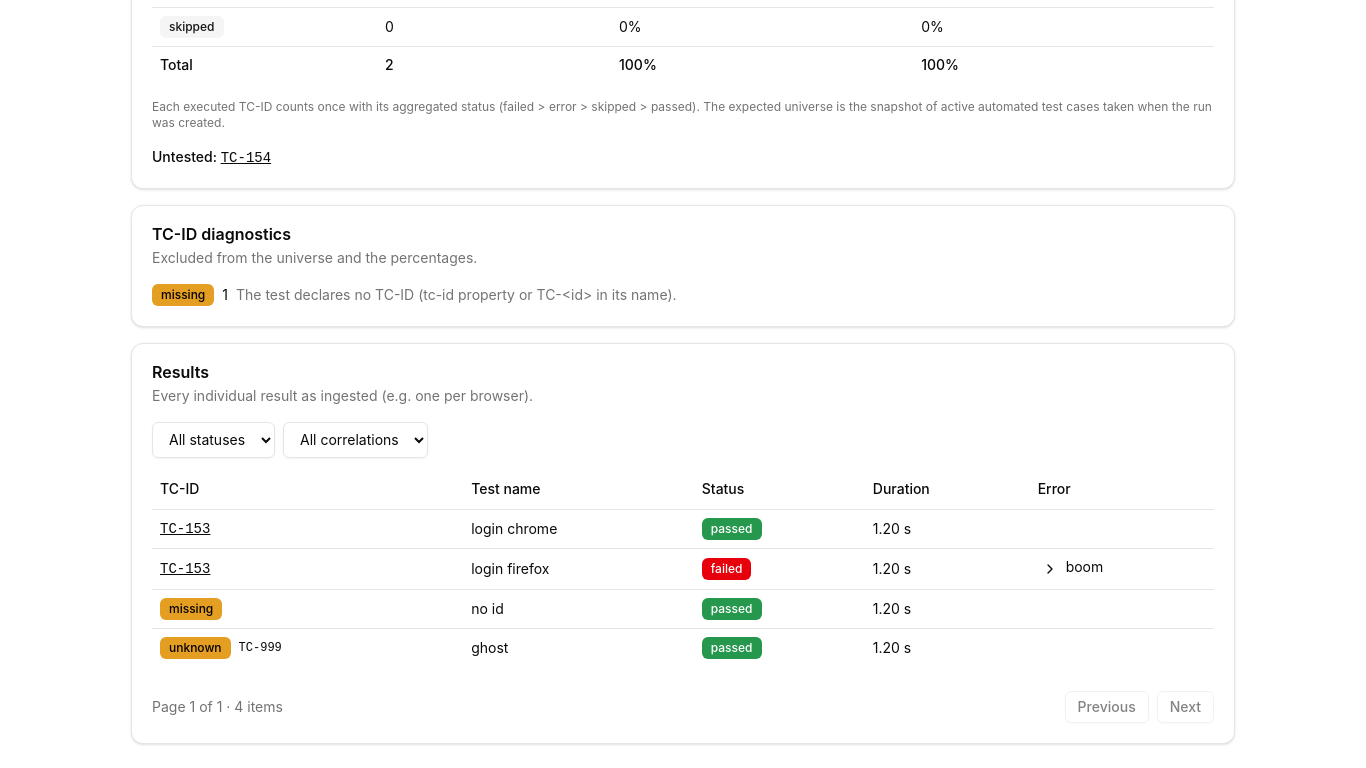
Test: FE-INT-011 run results › FE-INT-011 filters by status and correlation
(page scrolled)
Select "failed" in the dropdown named "Filter by status": (214, 440) [152, 422, 275, 458]
(page scrolled)
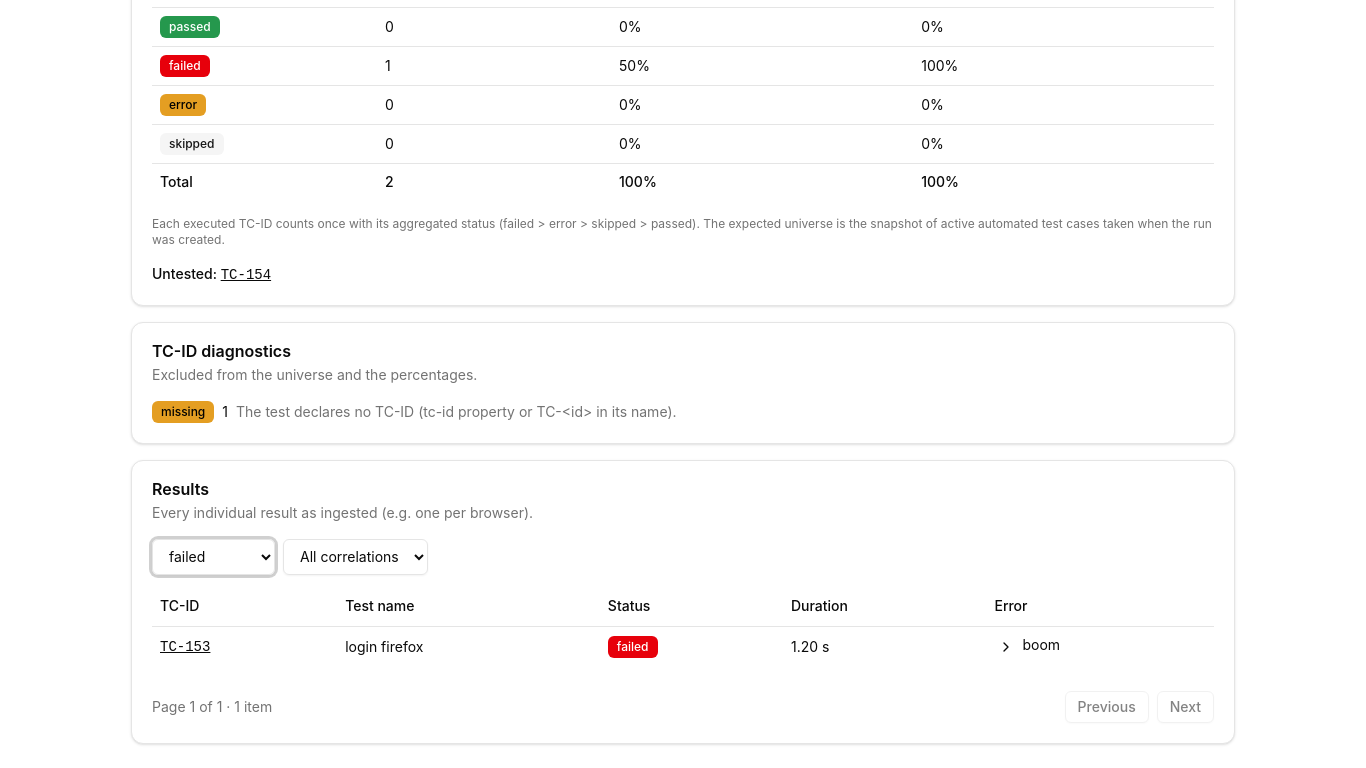
Expected: the text "login firefox" is shown, [337, 626, 600, 667]
Expected: the number of rows with test id "result-row" is 1, [152, 626, 1214, 667]
Select "All statuses" in the dropdown named "Filter by status": (214, 556) [152, 538, 275, 574]
(page scrolled)
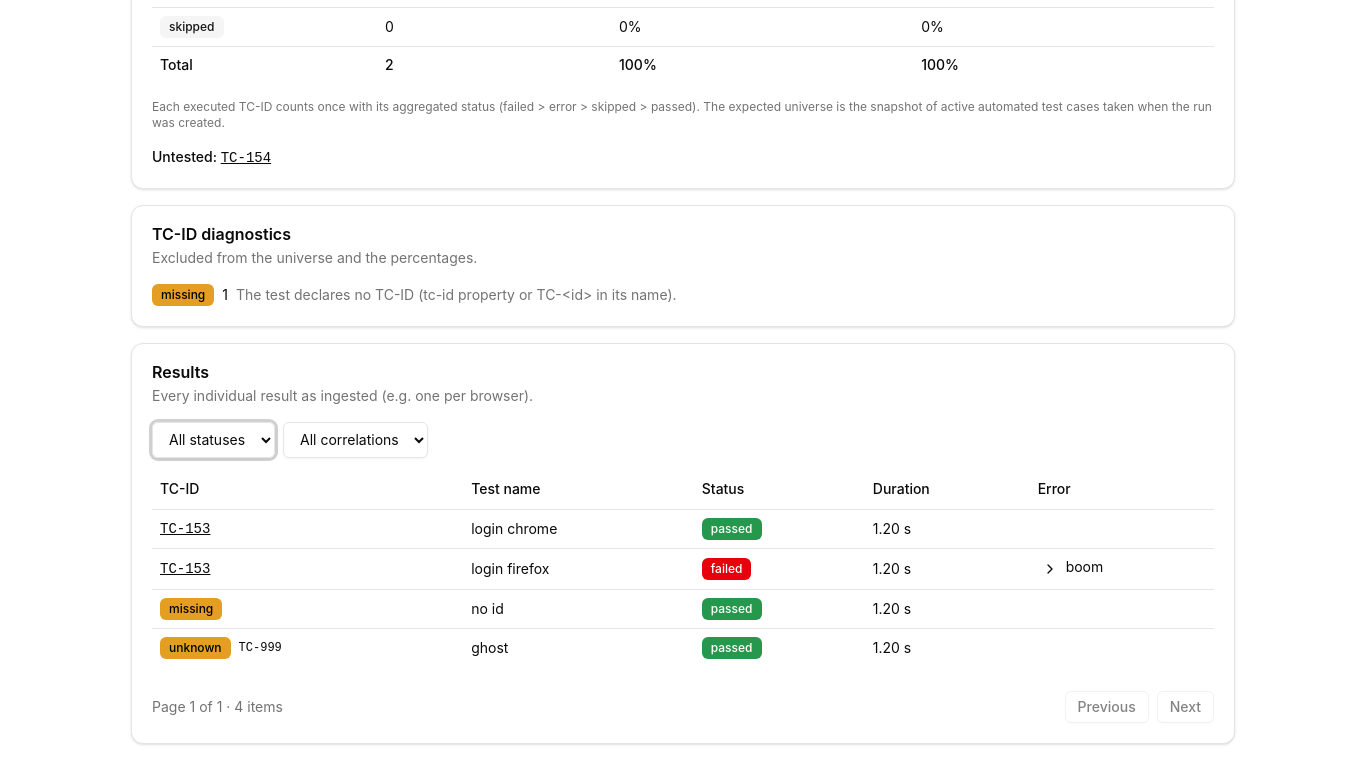
Select "unknown" in the dropdown named "Filter by TC-ID correlation": (356, 440) [283, 422, 428, 458]
(page scrolled)
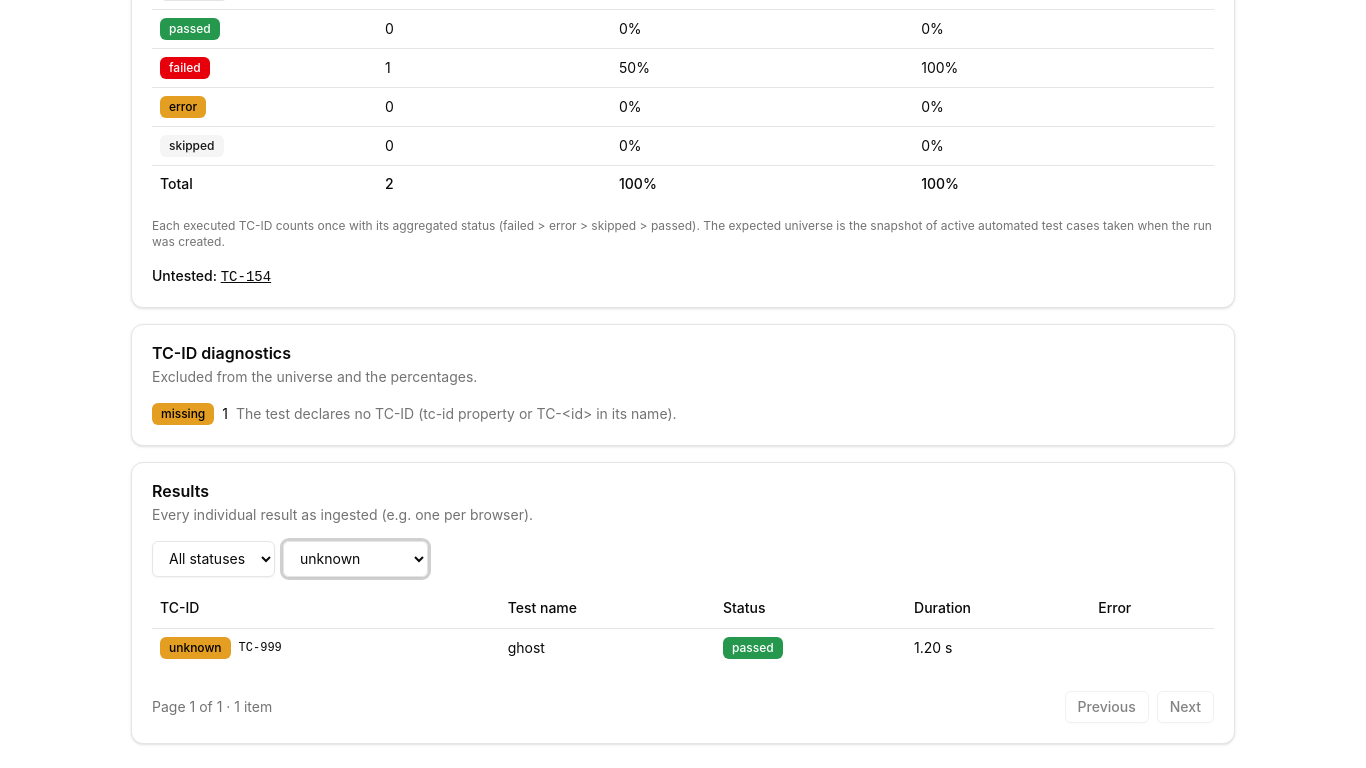
Expected: the text "TC-999" is shown, [239, 640, 282, 656]
Expected: the number of rows with test id "result-row" is 1, [152, 628, 1214, 667]
Select "deprecated" in the dropdown named "Filter by TC-ID correlation": (356, 558) [283, 540, 428, 576]
(page scrolled)
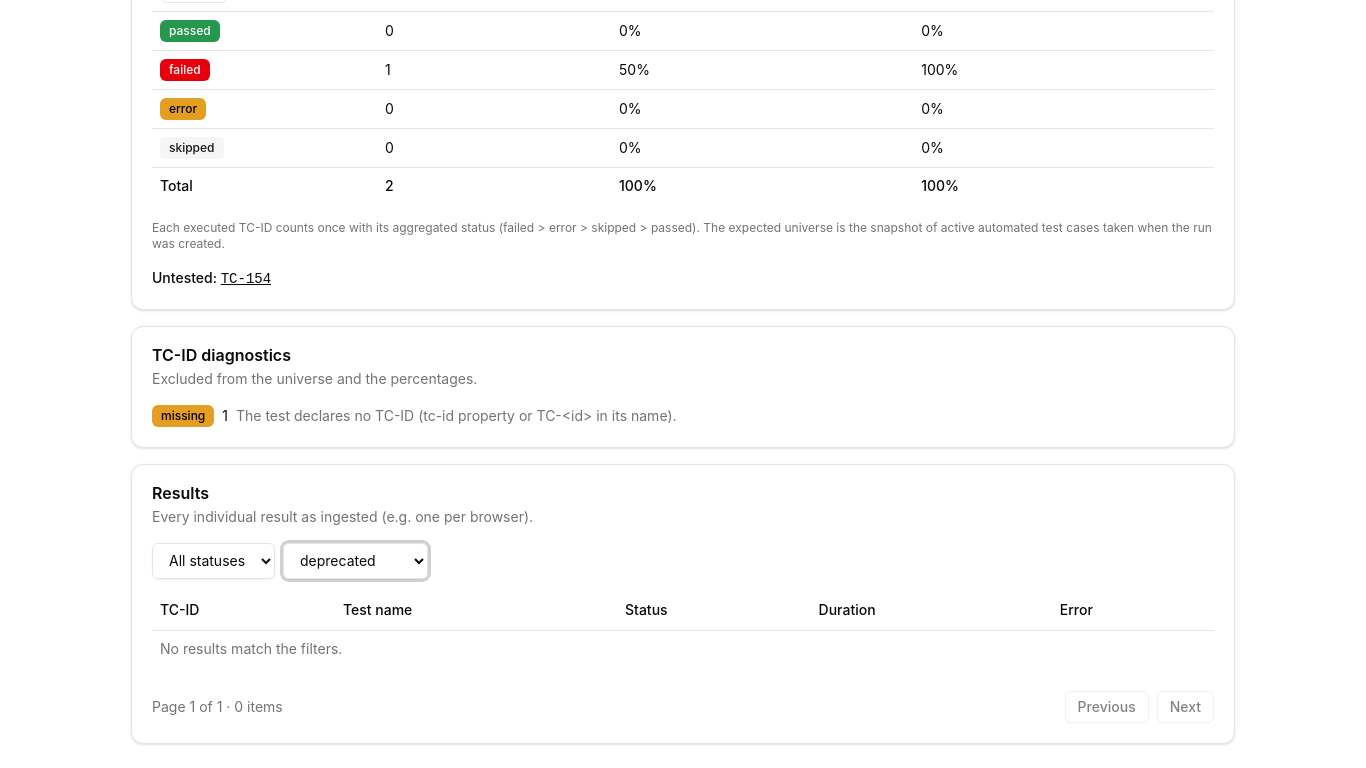
Expected: the text "No results match the filters." is shown, [152, 630, 1214, 667]
